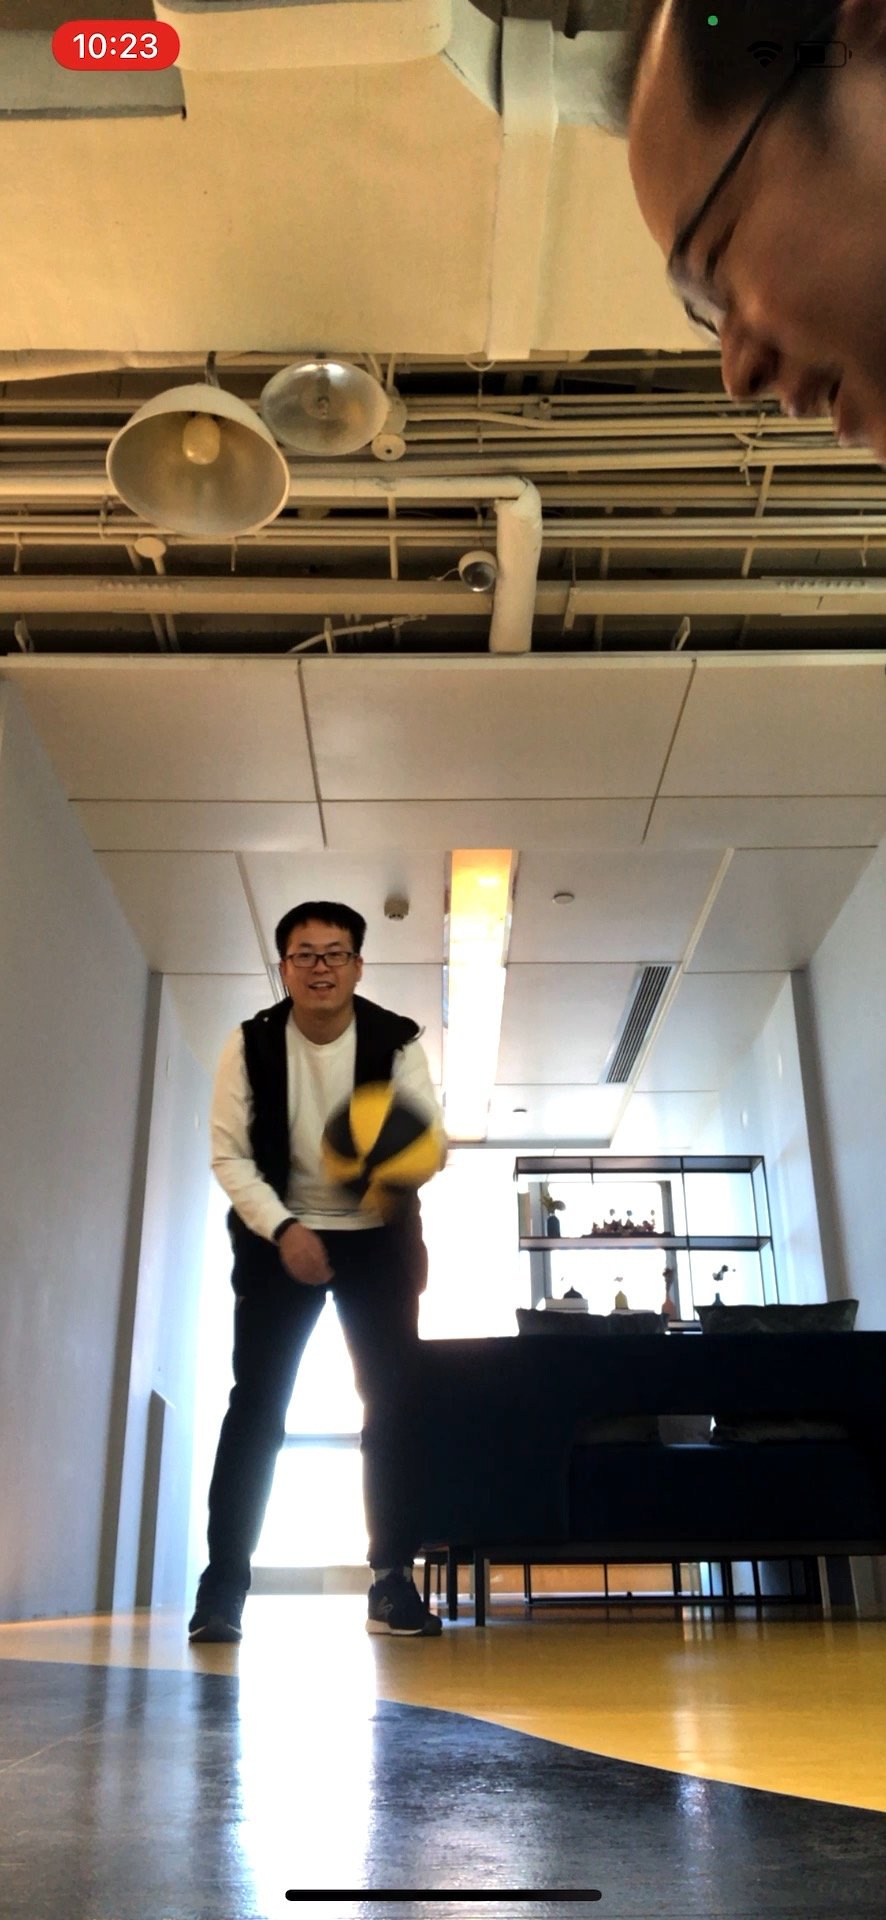ball: (323, 1082, 455, 1209)
